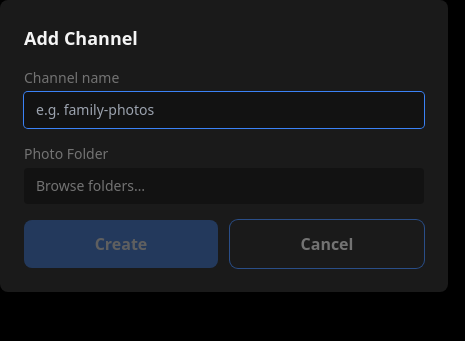
Test: CreateChannelForm › shows validation error for invalid characters
This screenshot has width=465, height=341.
Type "INVALID_NAME!" into the field labelled "Channel name" at (224, 110), box [24,92,424,128]
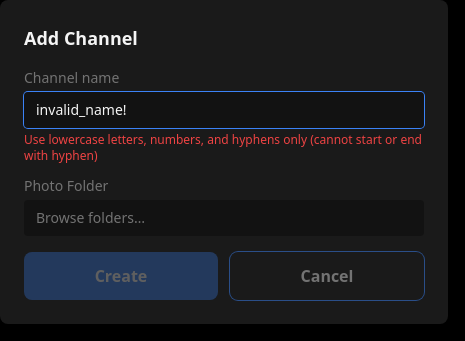
Expected: the text "lowercase letters, numbers, and hyphens" is shown, [24,131,422,164]
